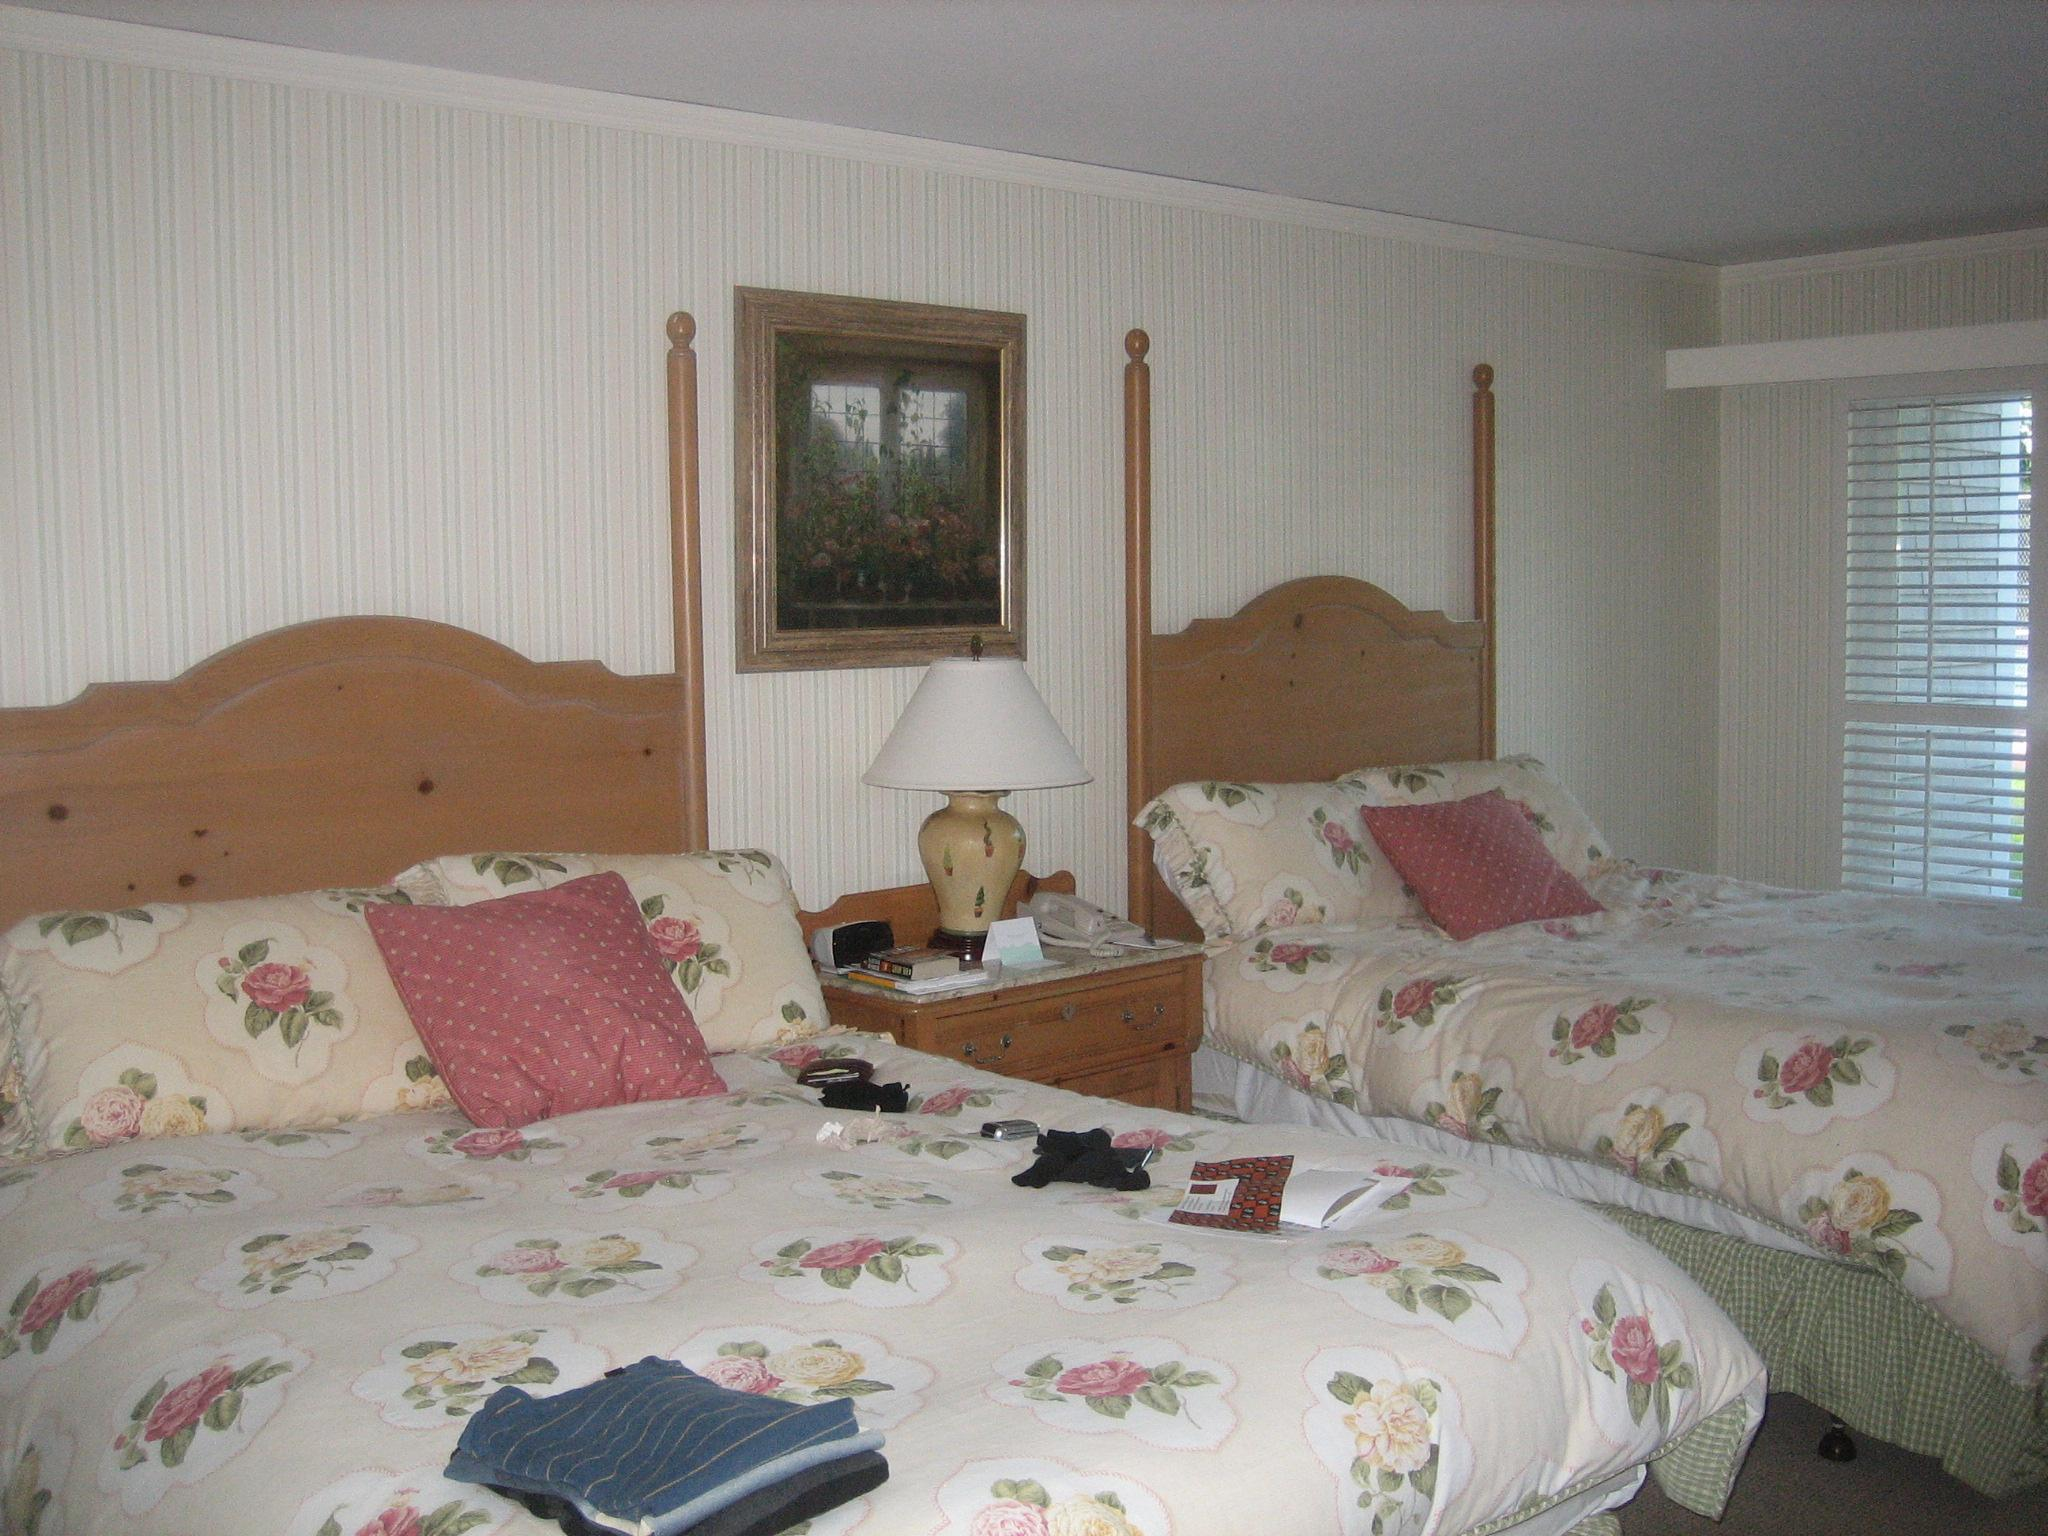Cama: (6, 639, 1722, 1523), (1118, 570, 2033, 1499)
Ventana: (1846, 413, 2025, 894)
